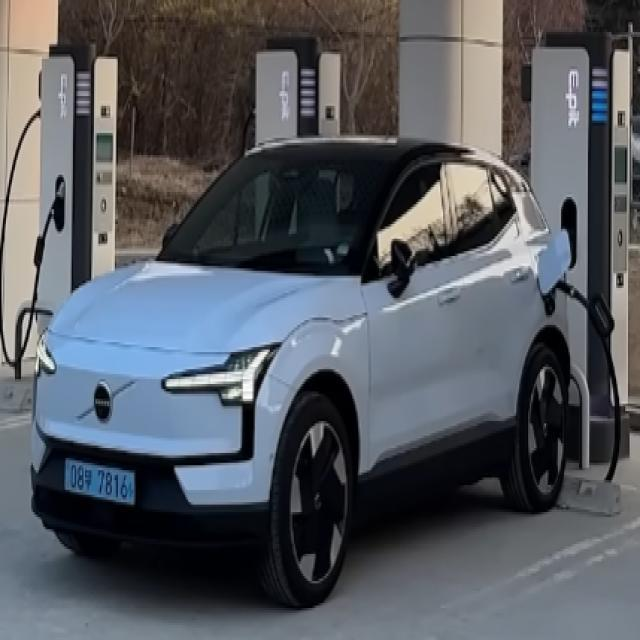car: (58, 439, 149, 523)
carev: (127, 469, 136, 508), (63, 459, 70, 496)
